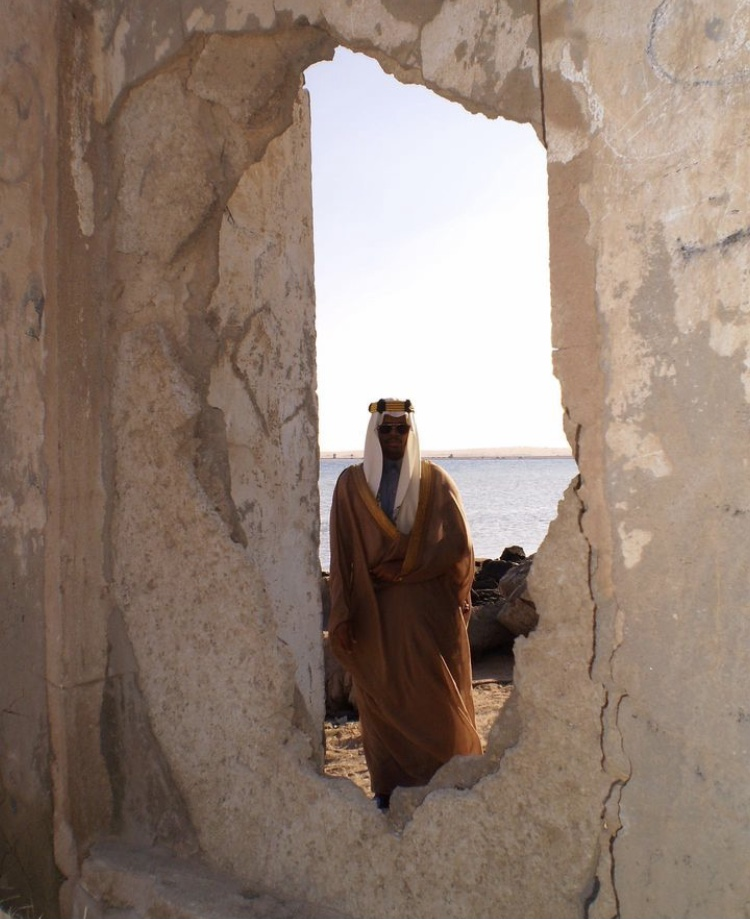Saudi_Founding_Day: (324, 393, 483, 809)
